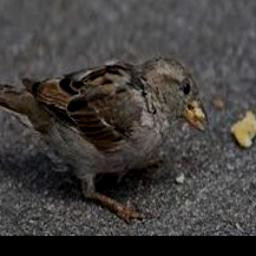Sparrow: (0, 56, 210, 223)
